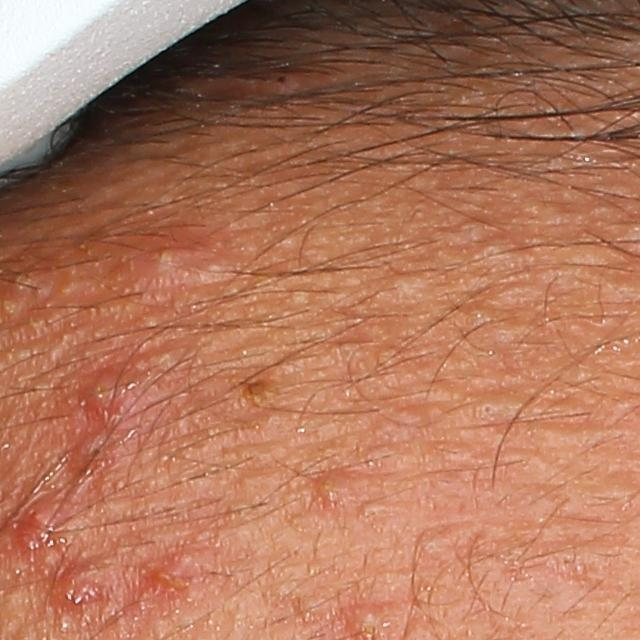comedo: (372, 270, 431, 304), (344, 600, 394, 633), (476, 235, 523, 268), (416, 526, 466, 556), (315, 478, 354, 511), (463, 304, 508, 331), (361, 501, 400, 525), (481, 398, 498, 419)
papule: (143, 232, 213, 274), (58, 561, 109, 611), (80, 370, 128, 414), (153, 555, 203, 594)
